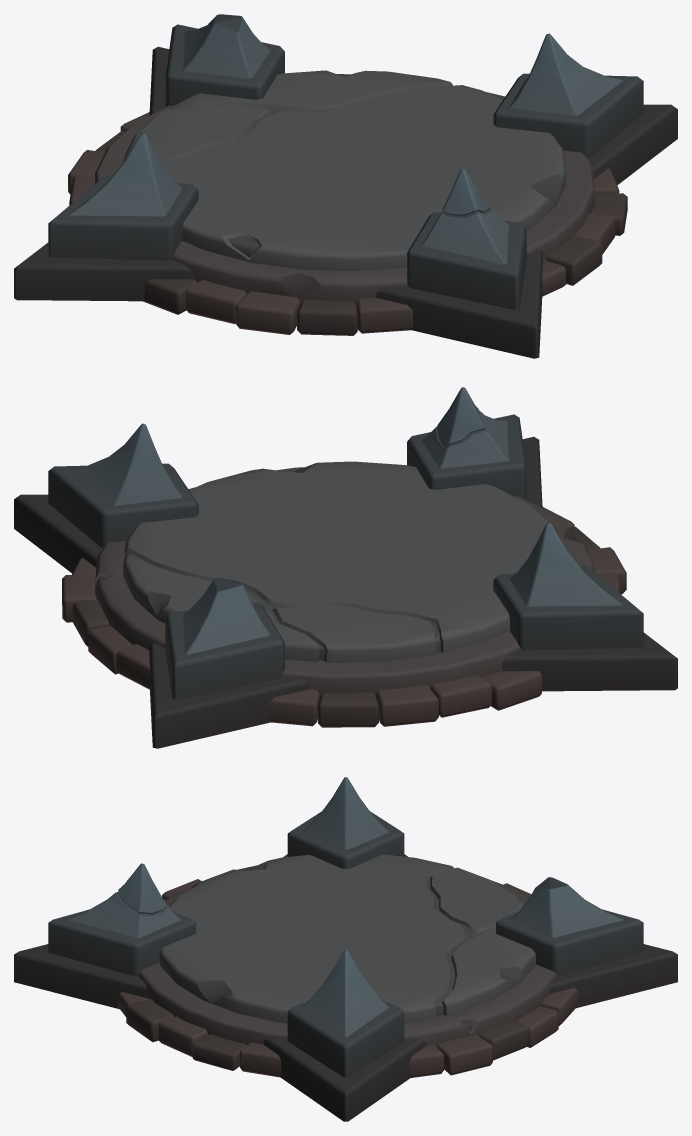
The model's file is CirclePlatformSmall_001.glb.
3 renders of one model, top to bottom at view 1: azimuth 30°, elevation 25°; view 2: azimuth 150°, elevation 25°; view 3: azimuth 270°, elevation 25°, orthographic. The views are drawn at different scales.
Visible parts, largest first — view 1: CirclePlatformSmall_001; view 2: CirclePlatformSmall_001; view 3: CirclePlatformSmall_001.
Boxes of the visible parts, bbox=[...] form: CirclePlatformSmall_001: bbox=[14, 14, 677, 358]; CirclePlatformSmall_001: bbox=[14, 387, 677, 748]; CirclePlatformSmall_001: bbox=[14, 777, 677, 1121].
Size of the model in its own units: 19.16 by 3.87 by 19.16.
1 material, 1 textured.
